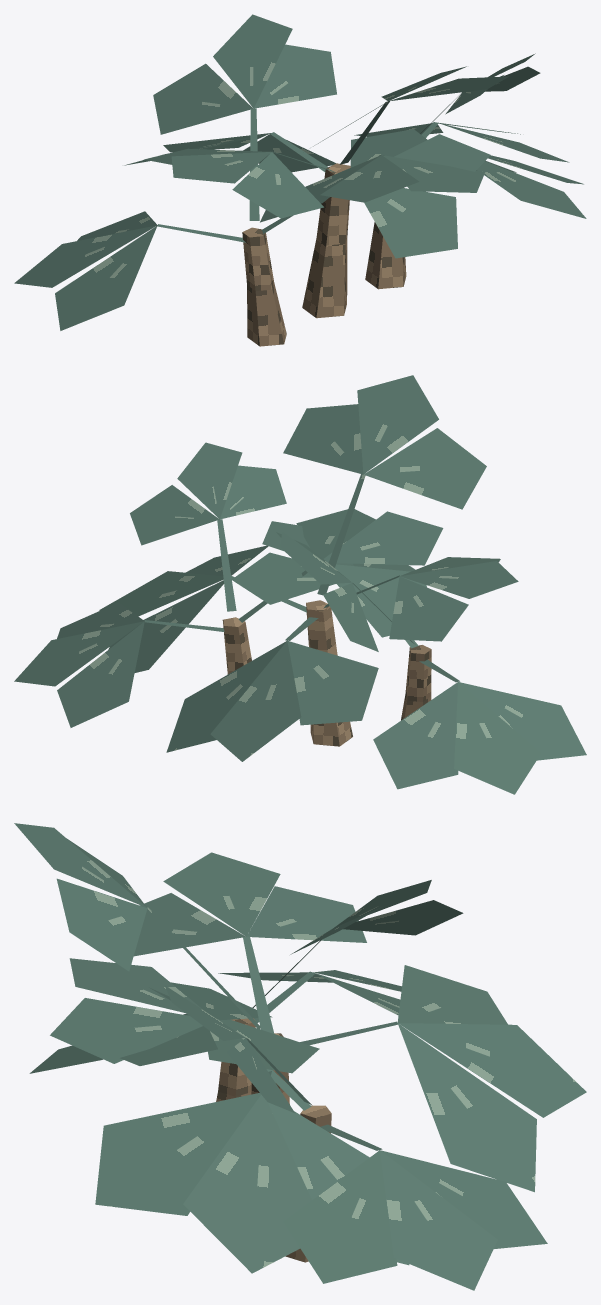
Rendered from saw-palmetto-mid.glb.
3 renders of one model, top to bottom at view 1: azimuth 30°, elevation 25°; view 2: azimuth 150°, elevation 25°; view 3: azimuth 270°, elevation 25°, orthographic. The views are drawn at different scales.
Parts seen in each view (by area): view 1: crown_saw-palmetto-mid, trunk_saw-palmetto-mid; view 2: crown_saw-palmetto-mid, trunk_saw-palmetto-mid; view 3: crown_saw-palmetto-mid, trunk_saw-palmetto-mid.
Boxes of the visible parts, box(x1,y1,x2,y2) form: crown_saw-palmetto-mid: box(14, 14, 586, 330); trunk_saw-palmetto-mid: box(242, 163, 406, 346); crown_saw-palmetto-mid: box(14, 375, 586, 794); trunk_saw-palmetto-mid: box(222, 600, 431, 746); crown_saw-palmetto-mid: box(14, 823, 586, 1290); trunk_saw-palmetto-mid: box(216, 1018, 331, 1262).
Size of the model in its own units: 4.5 by 2.47 by 3.29.
Materials: 2 (2 with a texture image).
